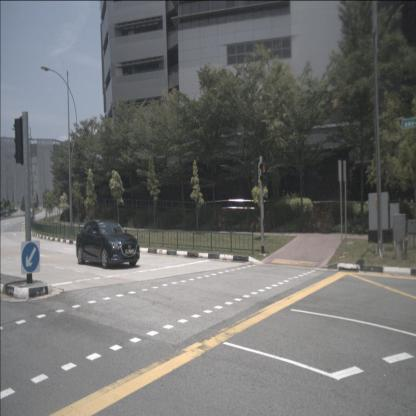vehicle-car: (76, 220, 140, 269)
